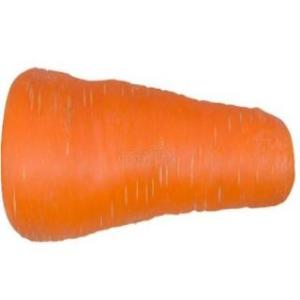carrot: (0, 60, 298, 252)
